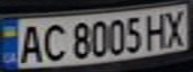0: (106, 16, 127, 55), (90, 17, 109, 57)
5: (124, 14, 148, 53)
8: (66, 19, 93, 60)
A: (15, 21, 45, 64)
C: (36, 20, 69, 62)
H: (142, 9, 172, 50)
X: (160, 7, 193, 47)
